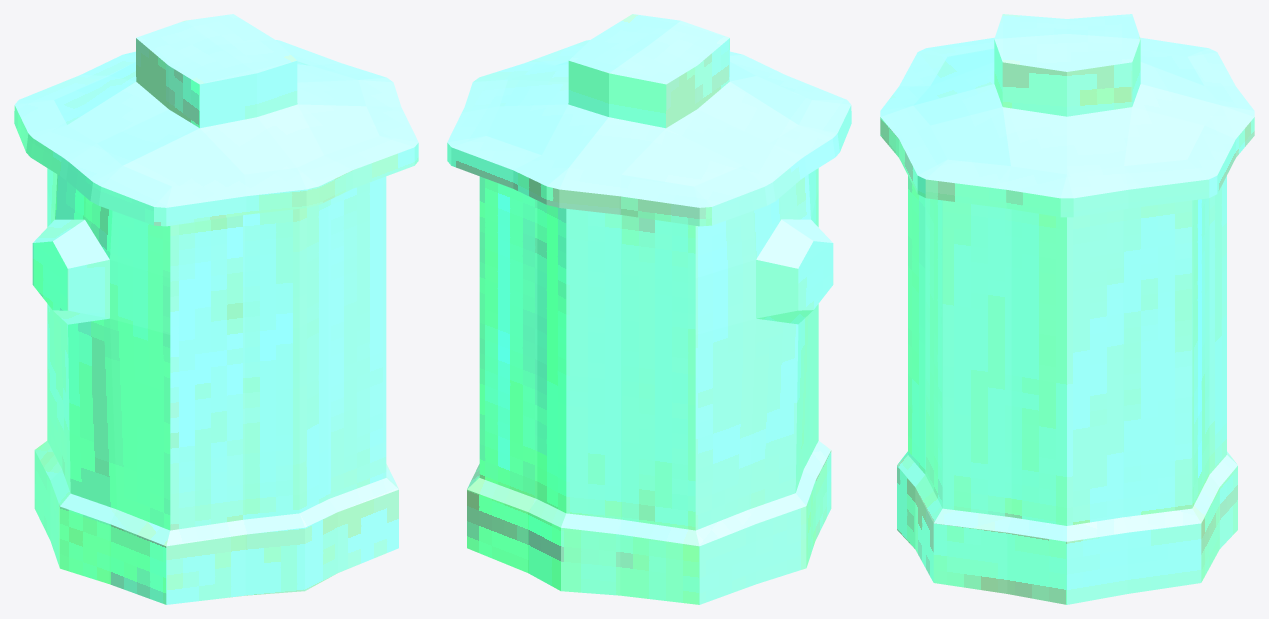
File: hydrant3.gltf
3 renders of one model, left to right at view 1: azimuth 30°, elevation 25°; view 2: azimuth 150°, elevation 25°; view 3: azimuth 270°, elevation 25°, orthographic.
Parts seen in each view (by area): view 1: Cube; view 2: Cube; view 3: Cube.
Part boxes in pixels (x1,y1,x2,y2): Cube: [14, 14, 418, 604]; Cube: [447, 14, 851, 604]; Cube: [880, 14, 1254, 604].
Size of the model in its own units: 2.27 by 3.11 by 2.13.
